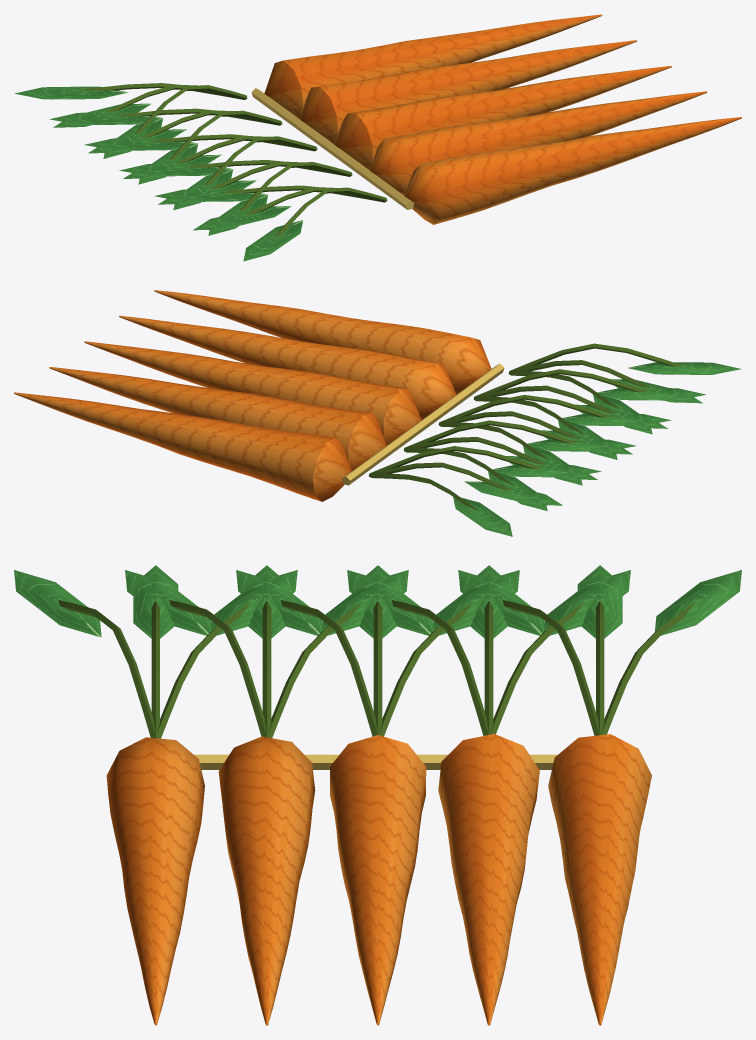
Rendered from veg_carrots_bunch.glb.
3 views of the same model, one above another, from view 1: azimuth 30°, elevation 25°; view 2: azimuth 150°, elevation 25°; view 3: azimuth 270°, elevation 25° (orthographic). The views are drawn at different scales.
Visible parts, largest first — view 1: veg_carrots_bunch; view 2: veg_carrots_bunch; view 3: veg_carrots_bunch.
Boxes of the visible parts, x1,y1,x2,y2 form: veg_carrots_bunch: (15, 14, 741, 261); veg_carrots_bunch: (14, 290, 741, 536); veg_carrots_bunch: (14, 565, 741, 1025).
Bounding box in the file's own units: 0.3082 × 0.0387 × 0.2228.
4 materials, 2 textured.
